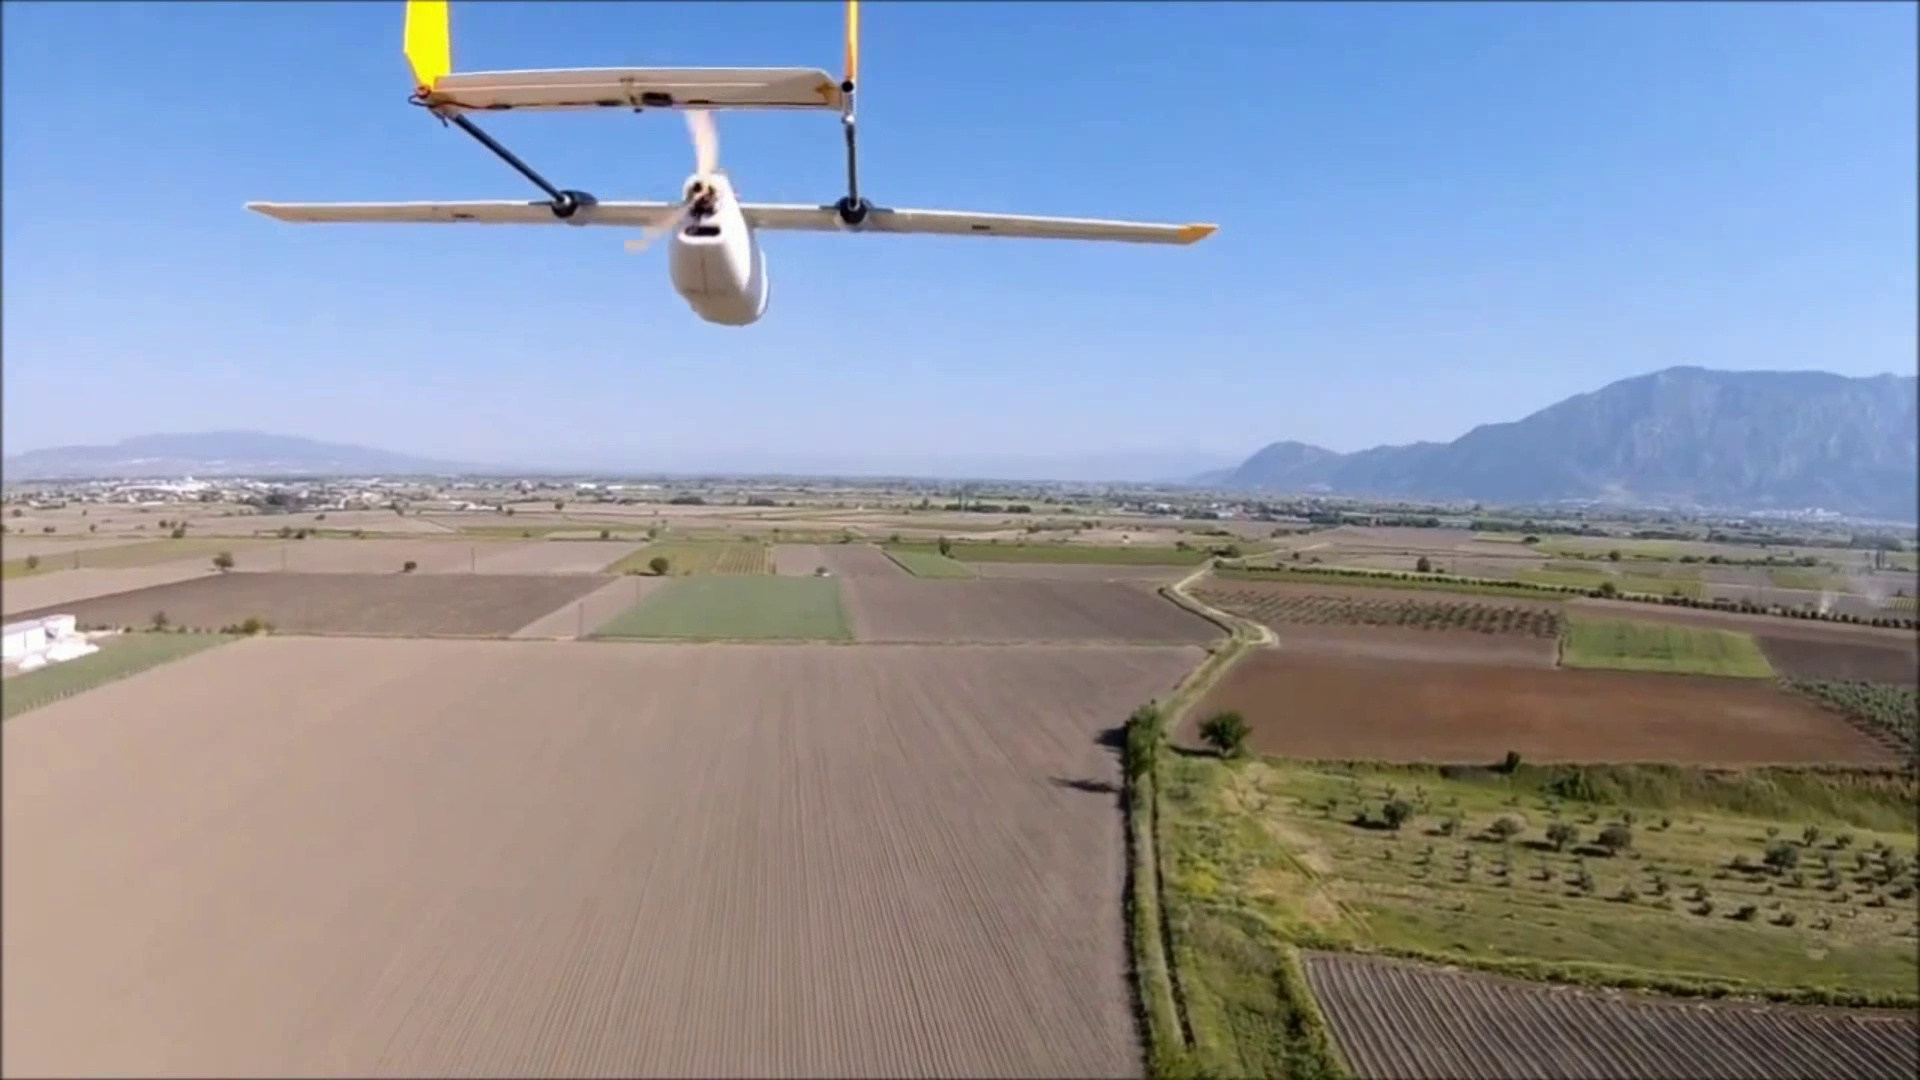airplane: (245, 6, 1216, 327)
